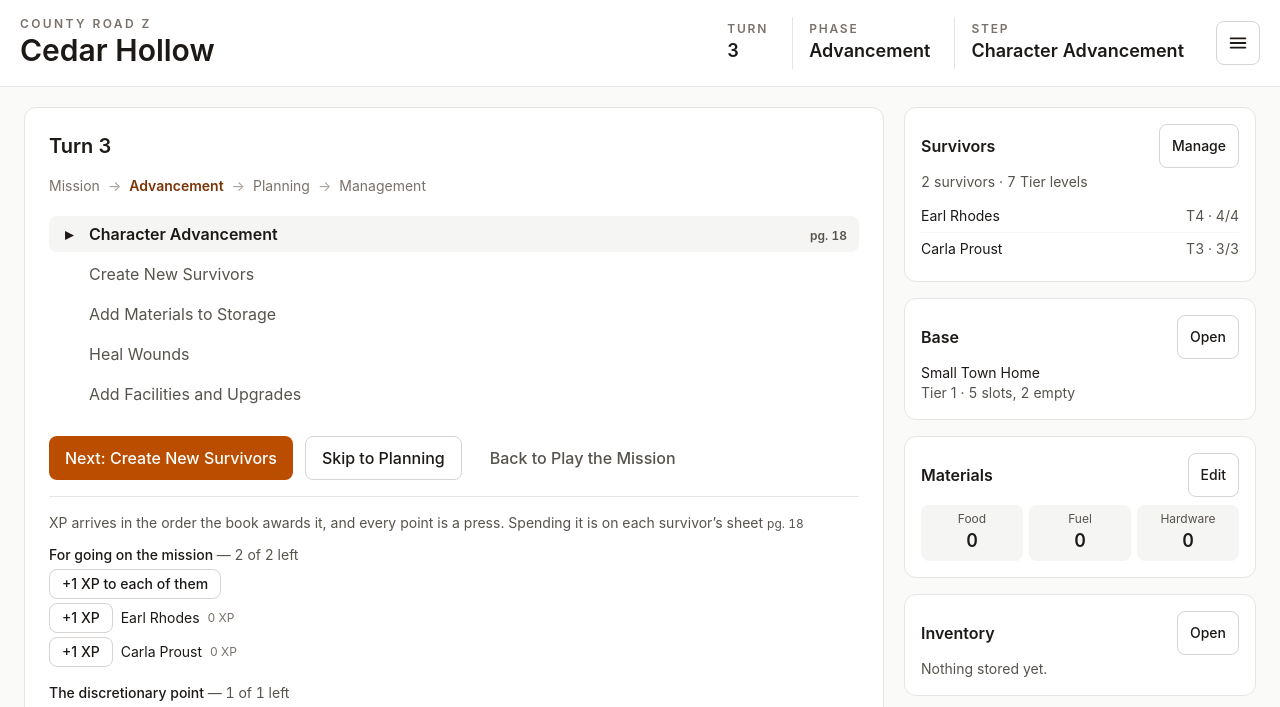
Test: Character Advancement › gives the whole mission team its point in one press (#239)
This screenshot has width=1280, height=707.
Click the button "+1 XP to each of them" at (135, 584), box 49,568 -> 221,598
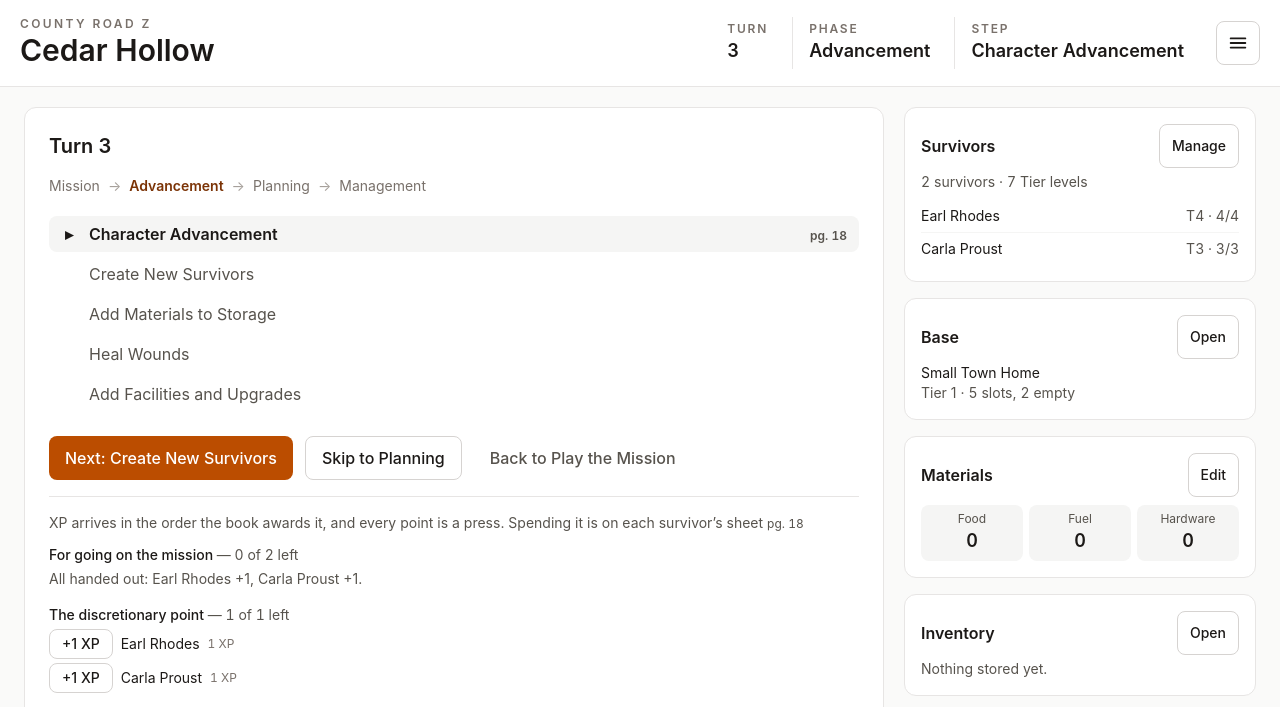
expect the text "All handed out: Earl Rhodes +1, Carla Proust +1." is shown: met, box 49,570 -> 362,586
